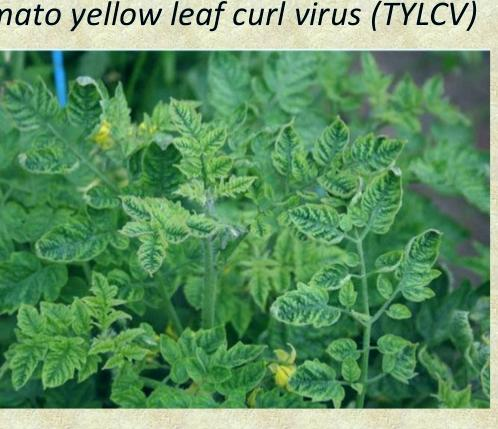Tomato leaf yellow virus: (0, 244, 78, 319), (32, 207, 107, 268), (389, 229, 448, 288), (0, 74, 63, 128), (266, 279, 330, 331), (311, 107, 359, 175), (360, 171, 406, 241), (267, 121, 305, 201), (69, 73, 113, 141), (346, 130, 415, 171), (155, 90, 208, 143), (288, 203, 347, 250), (281, 360, 349, 399), (19, 145, 82, 184), (133, 225, 169, 285), (212, 342, 277, 372), (6, 341, 48, 387), (15, 300, 54, 347), (44, 339, 79, 391), (183, 209, 230, 246), (201, 122, 242, 161), (116, 193, 161, 228), (157, 332, 184, 373), (71, 299, 96, 336), (174, 130, 200, 159), (115, 325, 149, 345)
